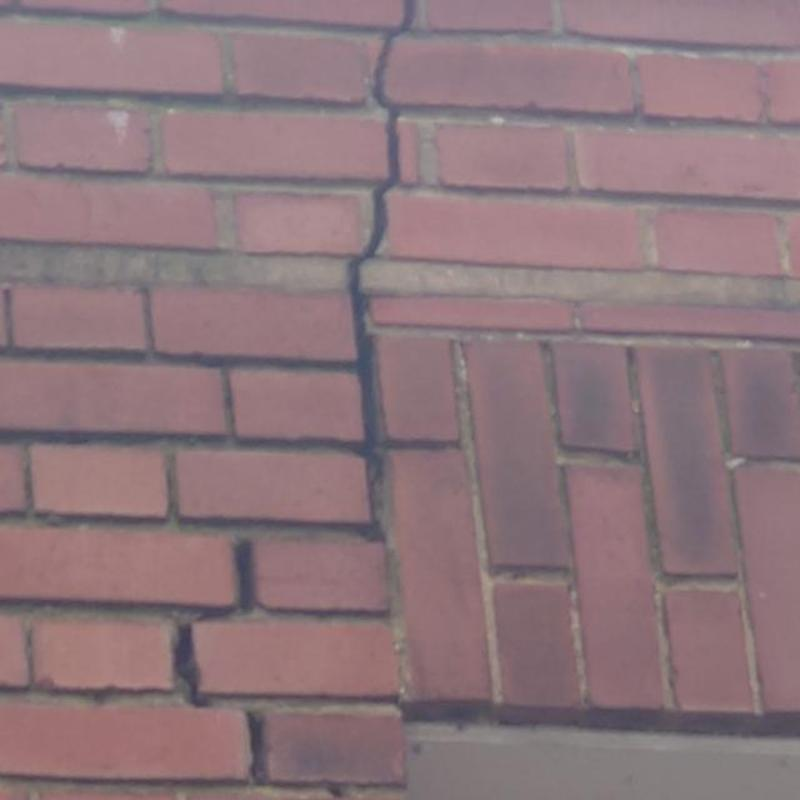pothole: (317, 0, 415, 544), (174, 542, 256, 706), (249, 712, 274, 785)
